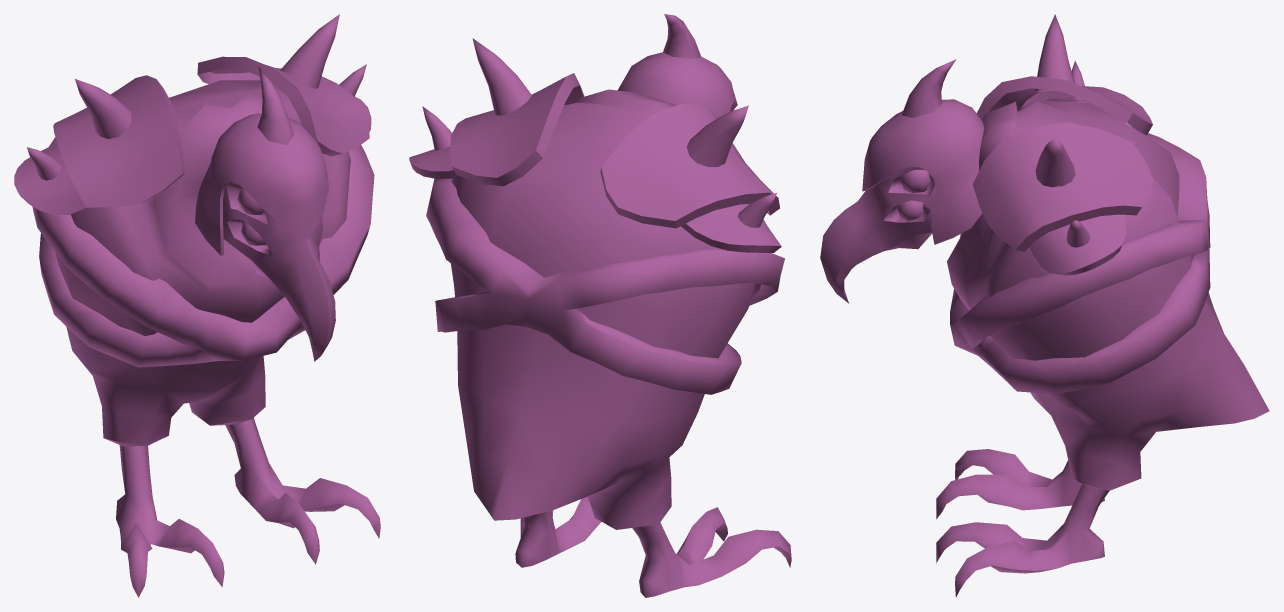
File: E04_Armored_Crow_Grade_2.1.fbx
3 views of the same model, side by side, from view 1: azimuth 30°, elevation 25°; view 2: azimuth 150°, elevation 25°; view 3: azimuth 270°, elevation 25° (orthographic). The views are drawn at different scales.
Parts seen in each view (by area): view 1: AR2; view 2: AR2; view 3: AR2.
Boxes of the visible parts, <box> form: AR2: <box>14,14,380,597</box>; AR2: <box>409,14,791,597</box>; AR2: <box>820,14,1269,597</box>.
Bounding box in the file's own units: 342 × 469 × 396.
